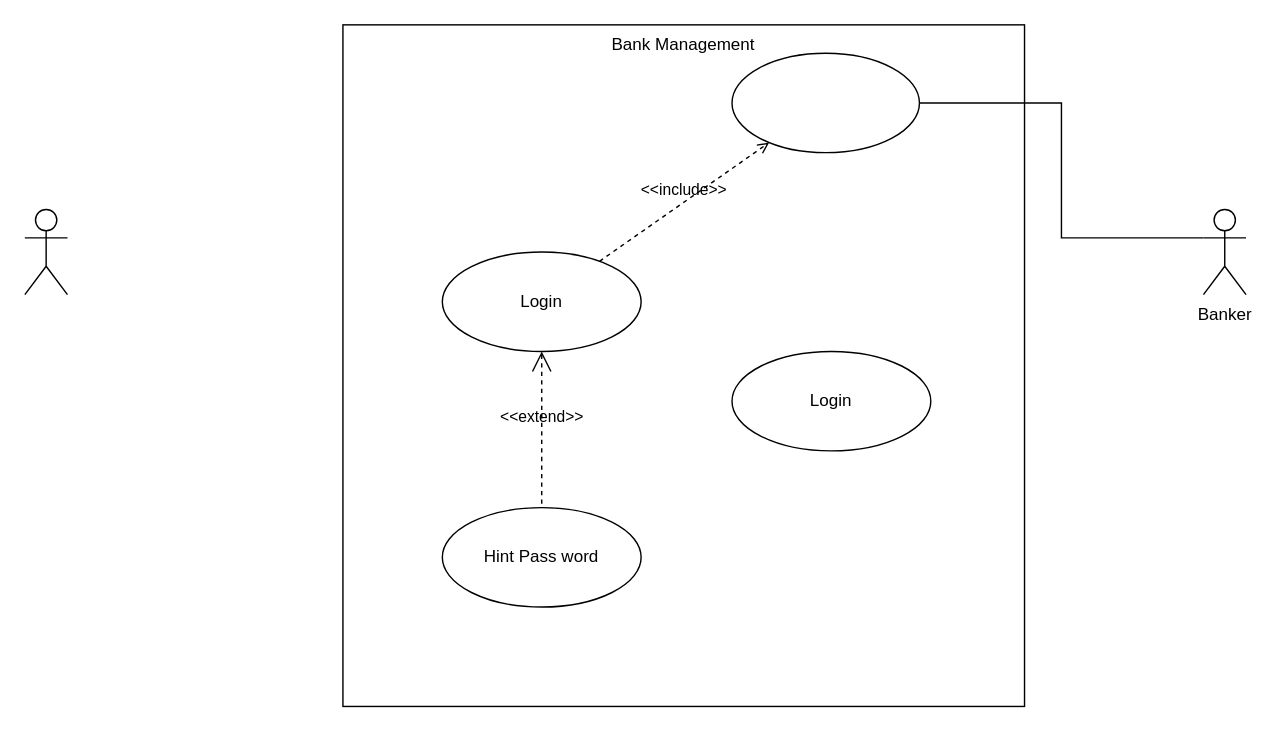
This 1277x731 diagram has some shape labels left out. The shapes that lost their labels are listed below. From the top down, each one's centre as x and y in pixels, then its label:
(x=825, y=102): Transfer Account
(x=45, y=251): User
